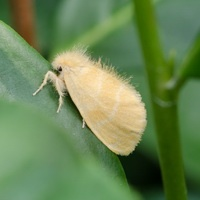insect: (34, 51, 146, 154)
